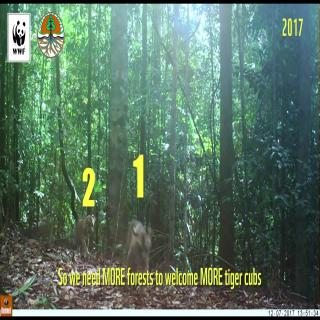Tiger: (122, 209, 153, 270), (70, 209, 96, 261)
